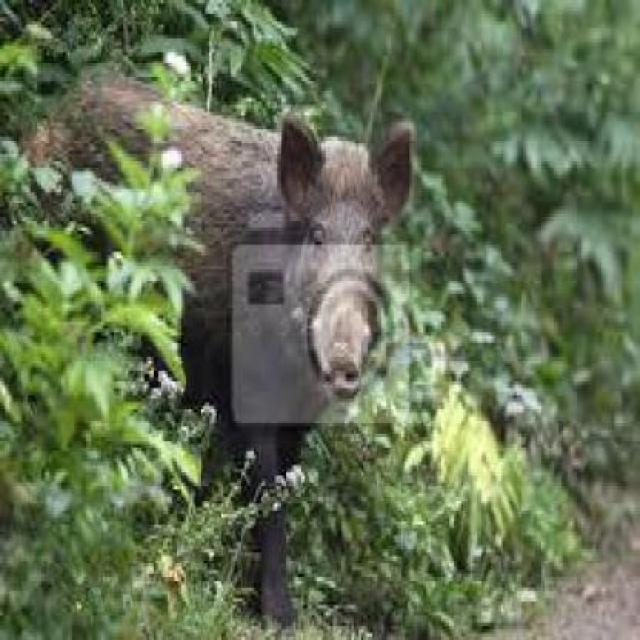wildboar: (0, 55, 426, 640)
